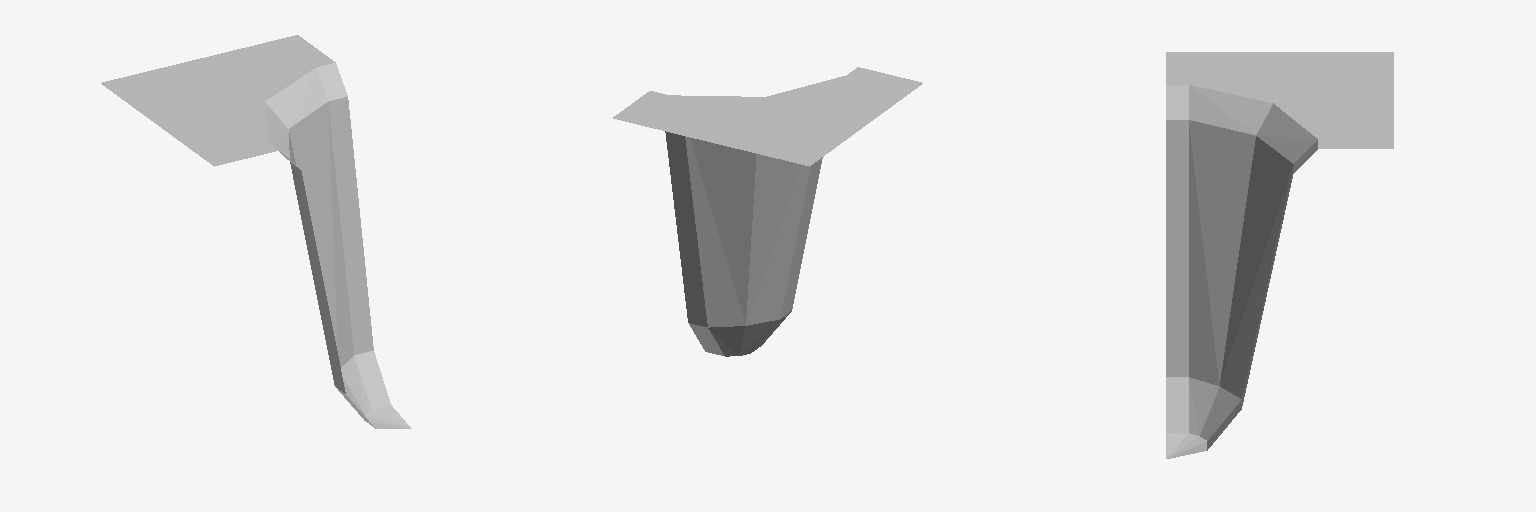
File: cave_wall_inner.obj
The picture shows the model from 3 angles: view 1: azimuth 30°, elevation 25°; view 2: azimuth 150°, elevation 25°; view 3: azimuth 270°, elevation 25°; orthographic projection.
Visible parts, largest first — view 1: cave_wall_inner_Cave_Wall_Inner; view 2: cave_wall_inner_Cave_Wall_Inner; view 3: cave_wall_inner_Cave_Wall_Inner.
Boxes of the visible parts, box(x1,y1,x2,y2) form: cave_wall_inner_Cave_Wall_Inner: box(101, 35, 411, 428); cave_wall_inner_Cave_Wall_Inner: box(613, 67, 922, 356); cave_wall_inner_Cave_Wall_Inner: box(1166, 52, 1393, 458).
Bounding box in the file's own units: 1 × 1.5 × 1.